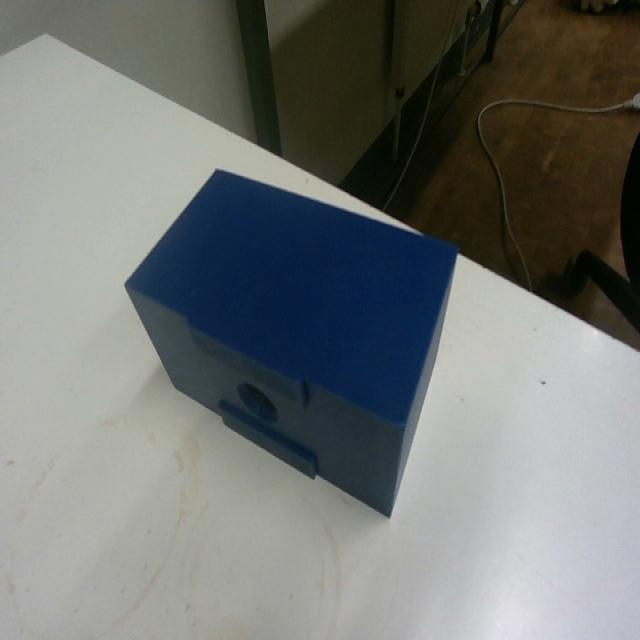Blue Cuboid: (122, 162, 460, 518)
